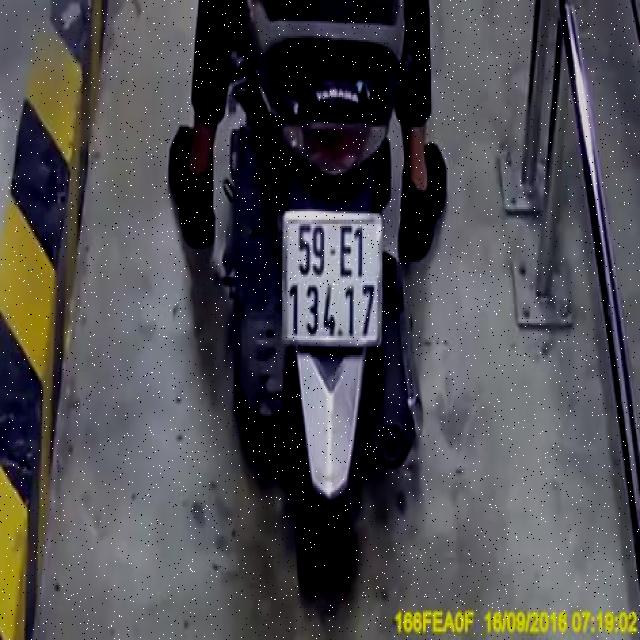1: (287, 281, 302, 339), (352, 223, 367, 280), (344, 283, 358, 340)
3: (305, 280, 322, 337)
4: (321, 279, 337, 338)
5: (294, 220, 312, 276)
7: (356, 279, 377, 338)
9: (312, 220, 326, 278)
E: (337, 222, 356, 282)
